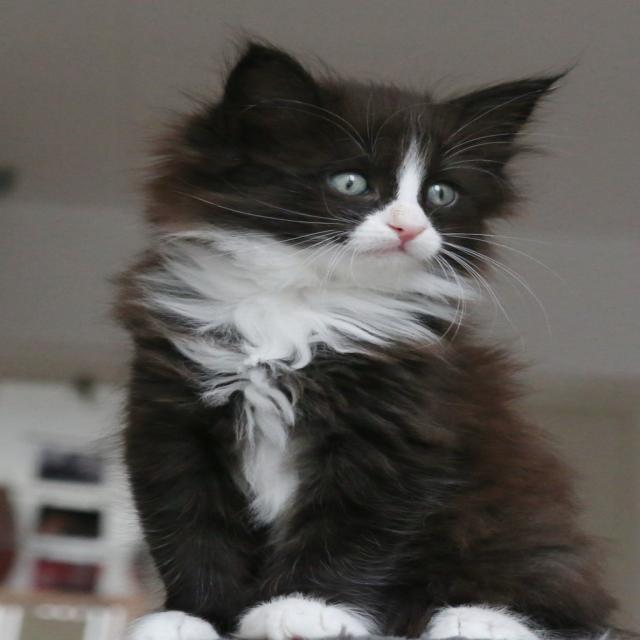Cat: (108, 19, 626, 639)
